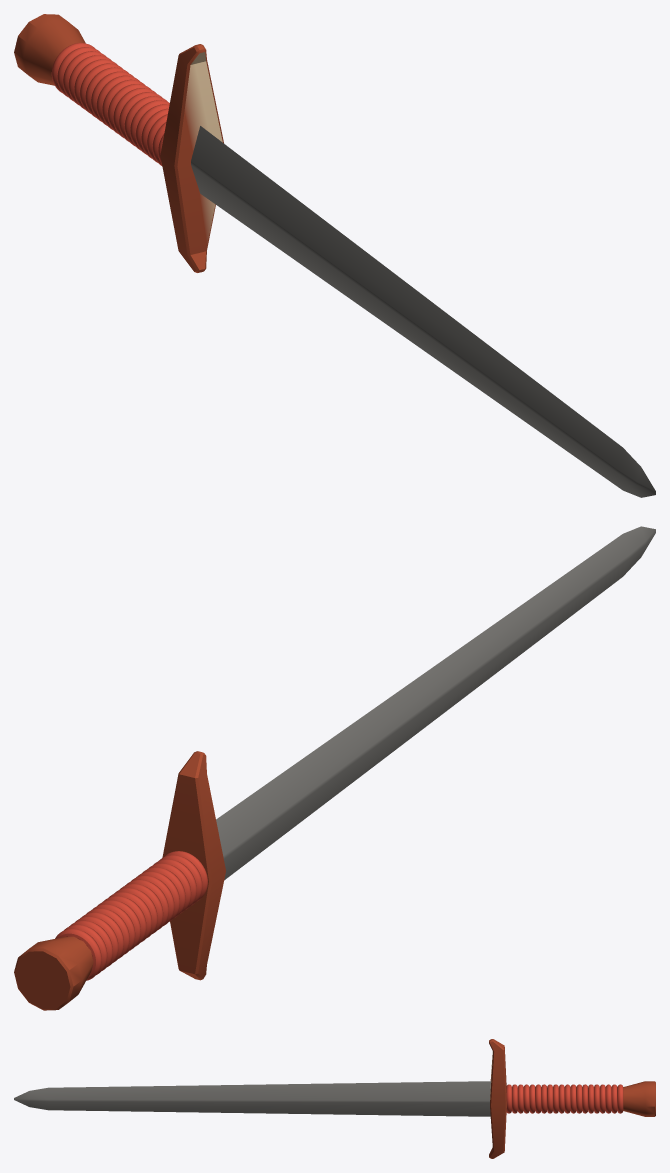
Rendered from Sword.fbx.
The picture shows the model from 3 angles, top to bottom: view 1: azimuth 30°, elevation 25°; view 2: azimuth 150°, elevation 25°; view 3: azimuth 270°, elevation 25°; orthographic projection. The views are drawn at different scales.
Visible parts, largest first — view 1: Sword; view 2: Sword; view 3: Sword.
Boxes of the visible parts, x1,y1,x2,y2 form: Sword: (14,14,655,497); Sword: (14,526,655,1010); Sword: (14,1039,655,1158).
Size of the model in its own units: 7.85 by 28.6 by 140.
